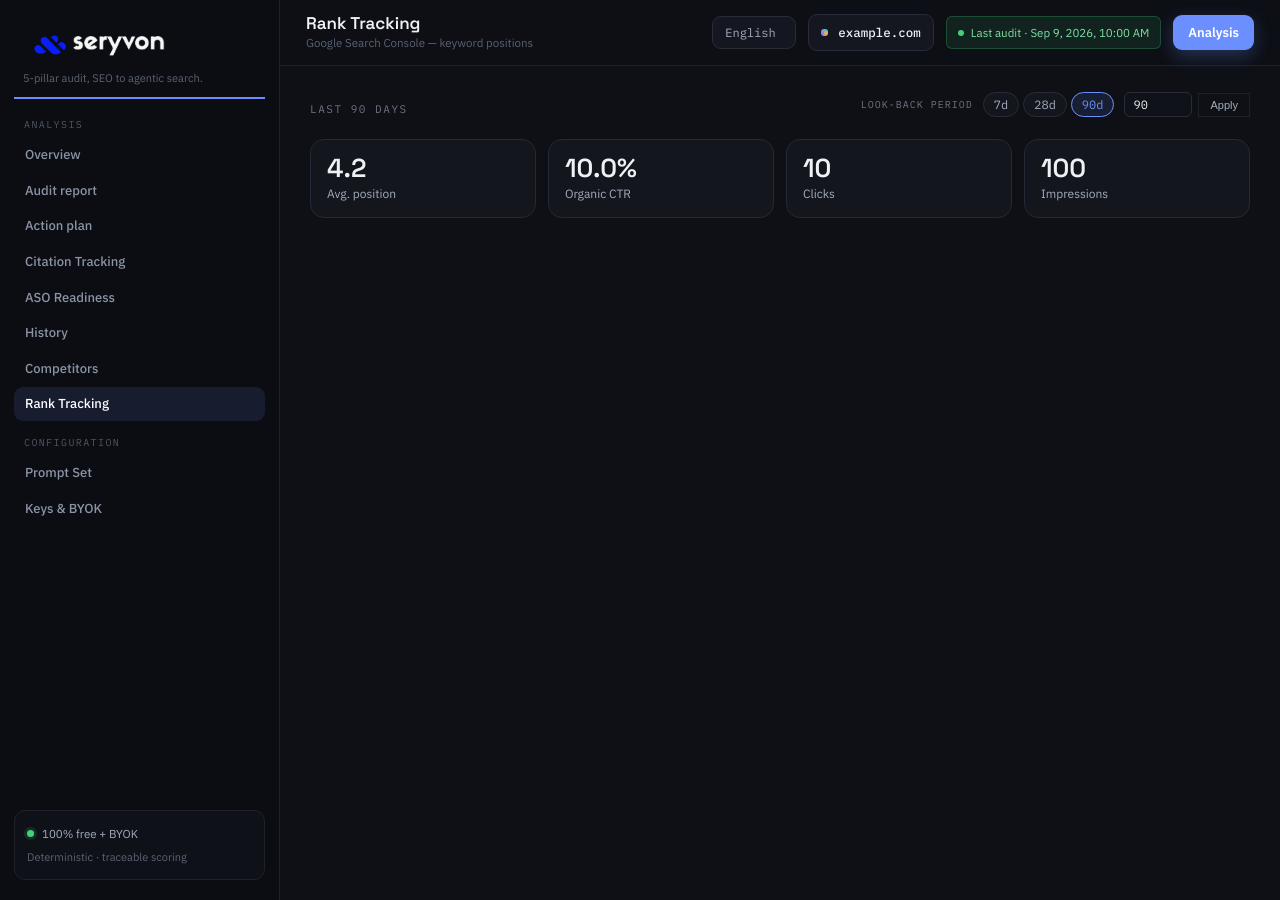
Scenario: shows the period update error when GSC refresh fails
Expected: the text "4.2" is shown, [327, 151, 366, 185]
What coordinates should you click on to do the following:
click the button "7d"
I would click on:
 (1001, 104)
Its box is [983, 92, 1019, 117].
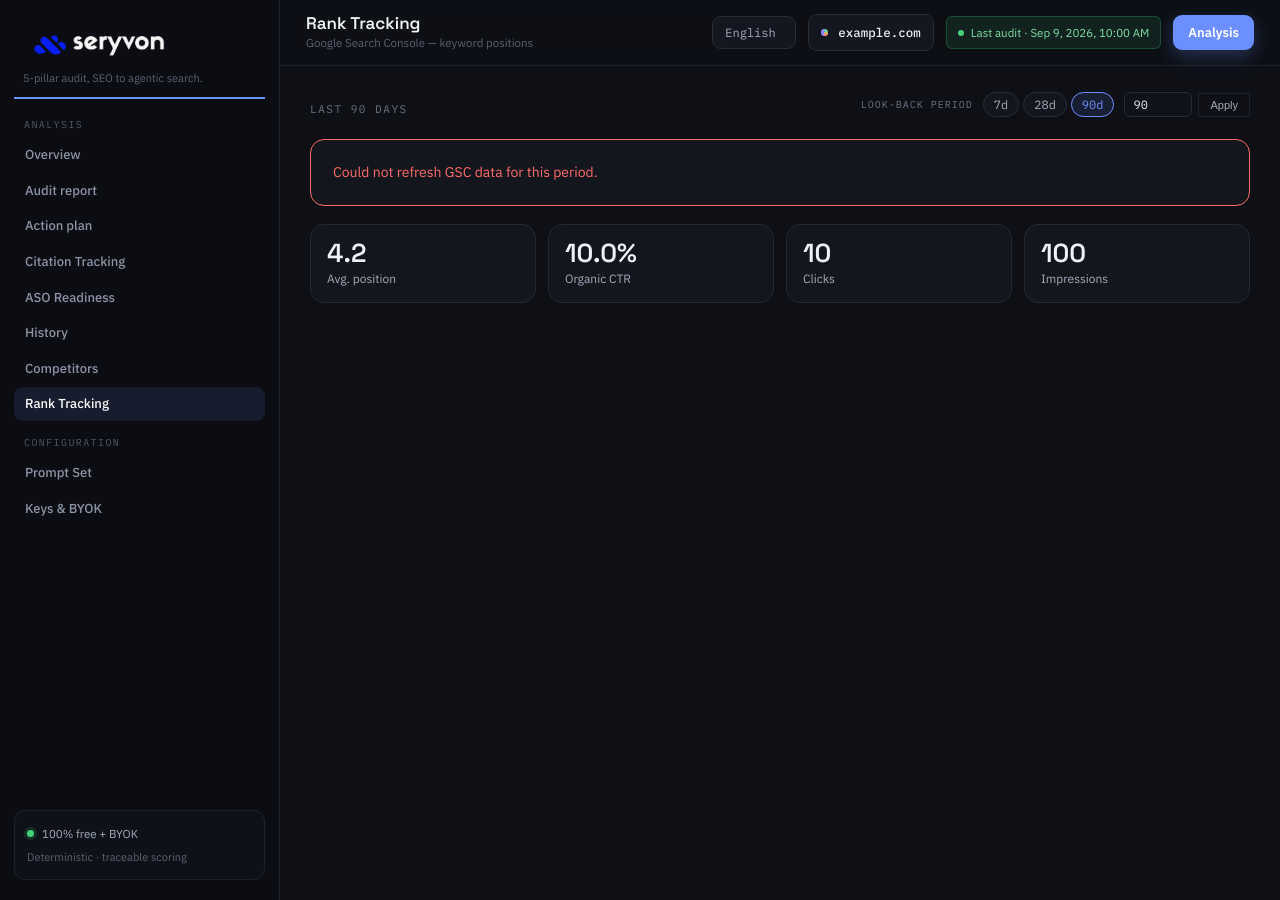
Result: the text "Could not refresh GSC data for this period." is shown at [310, 139, 1250, 206]
